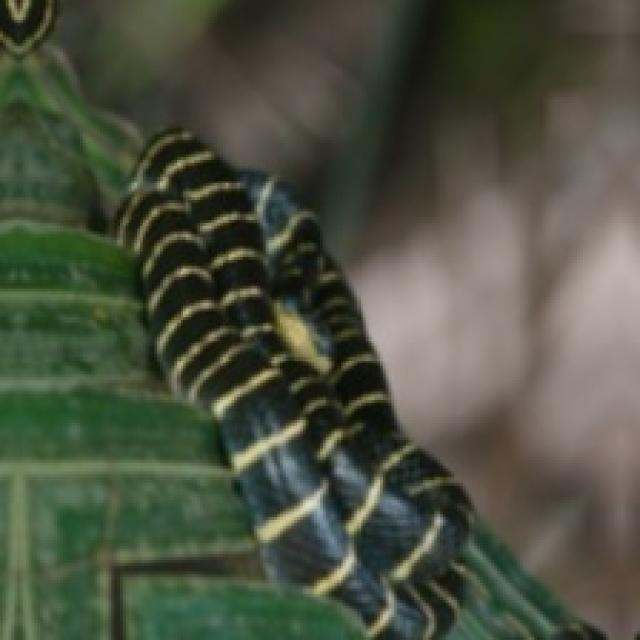mangrove cat snake: (117, 129, 603, 637), (117, 129, 469, 637)
